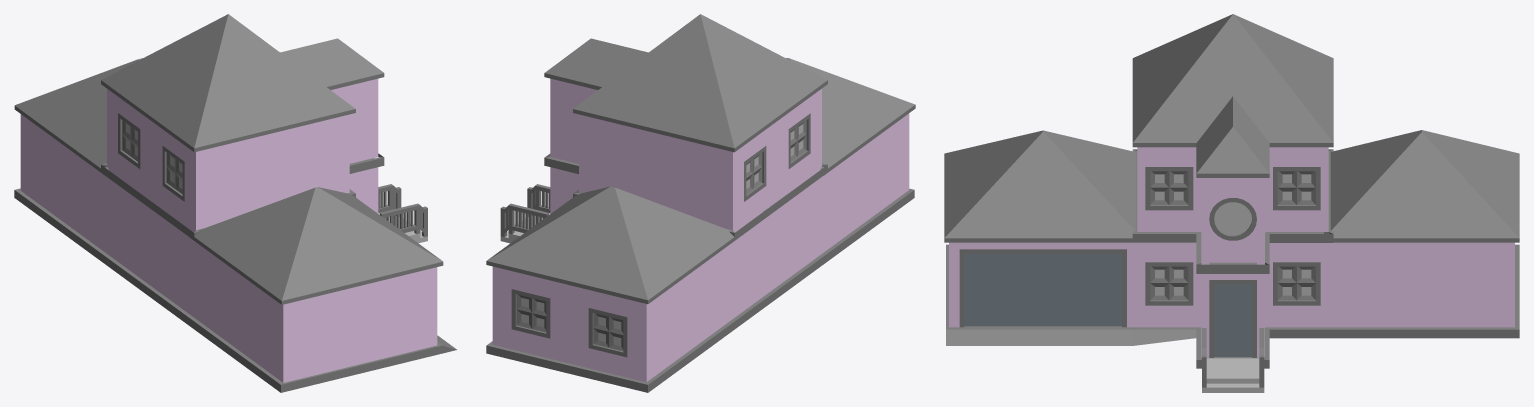
The model's file is House #9.fbx.
3 views of the same model, side by side, from view 1: azimuth 30°, elevation 25°; view 2: azimuth 150°, elevation 25°; view 3: azimuth 270°, elevation 25° (orthographic). The views are drawn at different scales.
Parts seen in each view (by area): view 1: building_001; view 2: building_001; view 3: building_001.
Part boxes in pixels (<box>): building_001: <box>14,14,456,392</box>; building_001: <box>486,14,915,392</box>; building_001: <box>944,14,1519,392</box>.
Bounding box in the file's own units: 691 × 650 × 1204.
